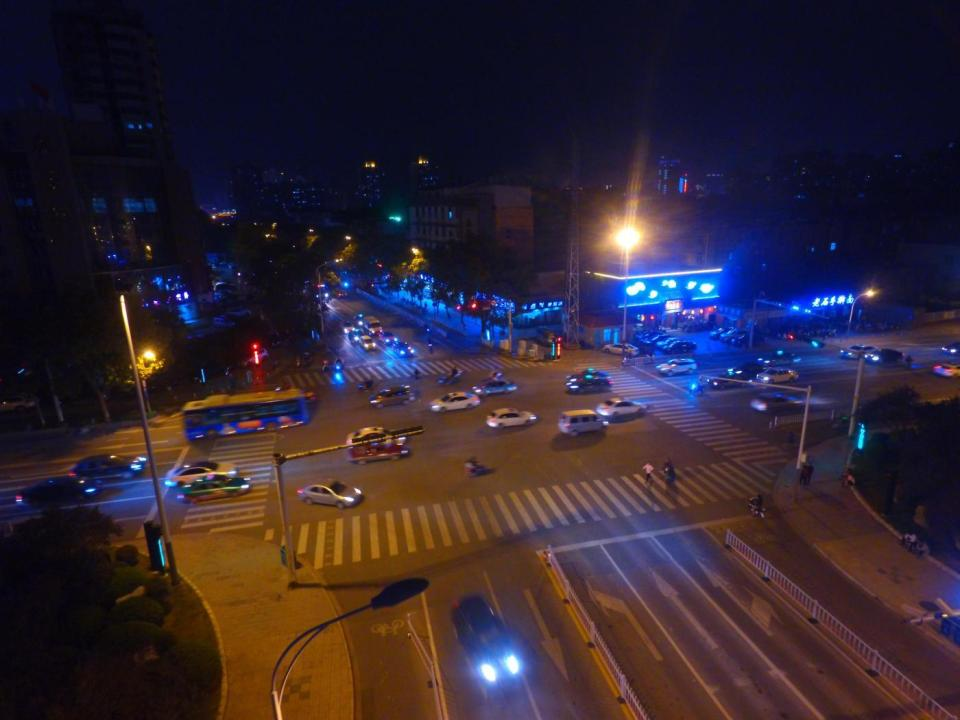bus: (179, 390, 309, 444)
car: (449, 596, 526, 696), (14, 474, 101, 507), (163, 459, 241, 491), (68, 455, 147, 482), (176, 475, 249, 502), (296, 480, 362, 509), (347, 439, 408, 465), (346, 426, 406, 449), (485, 408, 538, 431), (369, 383, 415, 408), (428, 392, 480, 414), (597, 398, 646, 420), (566, 374, 614, 393), (751, 393, 797, 412), (707, 373, 751, 390), (756, 367, 798, 384), (657, 360, 697, 377), (729, 363, 769, 380), (238, 347, 268, 368), (602, 344, 639, 360), (474, 382, 516, 396), (864, 349, 904, 362), (636, 330, 668, 346), (663, 340, 697, 355), (844, 345, 878, 360), (720, 328, 750, 343), (731, 335, 765, 348), (656, 338, 686, 351), (393, 341, 413, 359), (708, 328, 738, 340), (221, 306, 251, 318), (376, 330, 398, 345), (263, 330, 282, 347), (647, 335, 671, 348), (212, 316, 236, 329), (358, 335, 376, 352), (213, 282, 231, 298), (634, 339, 656, 352), (348, 330, 365, 346), (339, 321, 354, 335), (352, 316, 369, 328), (332, 288, 348, 298)
van: (558, 408, 602, 437), (362, 315, 383, 336), (536, 327, 556, 346)
